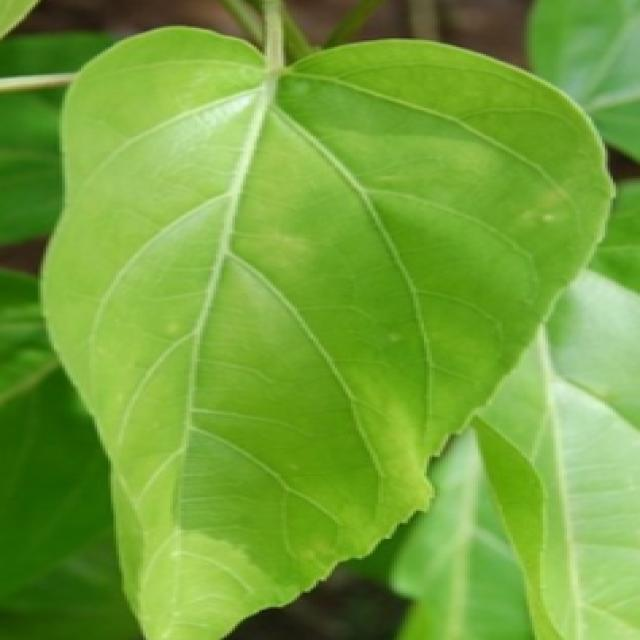healthy: (43, 28, 610, 638)
